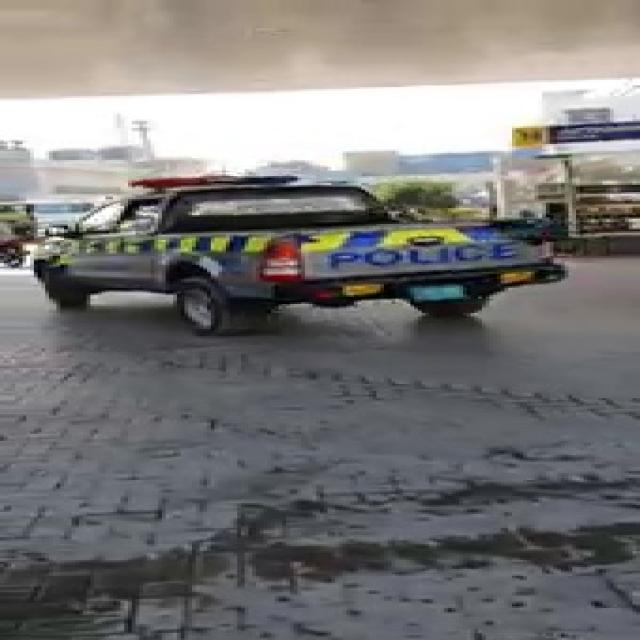police: (43, 166, 586, 342)
